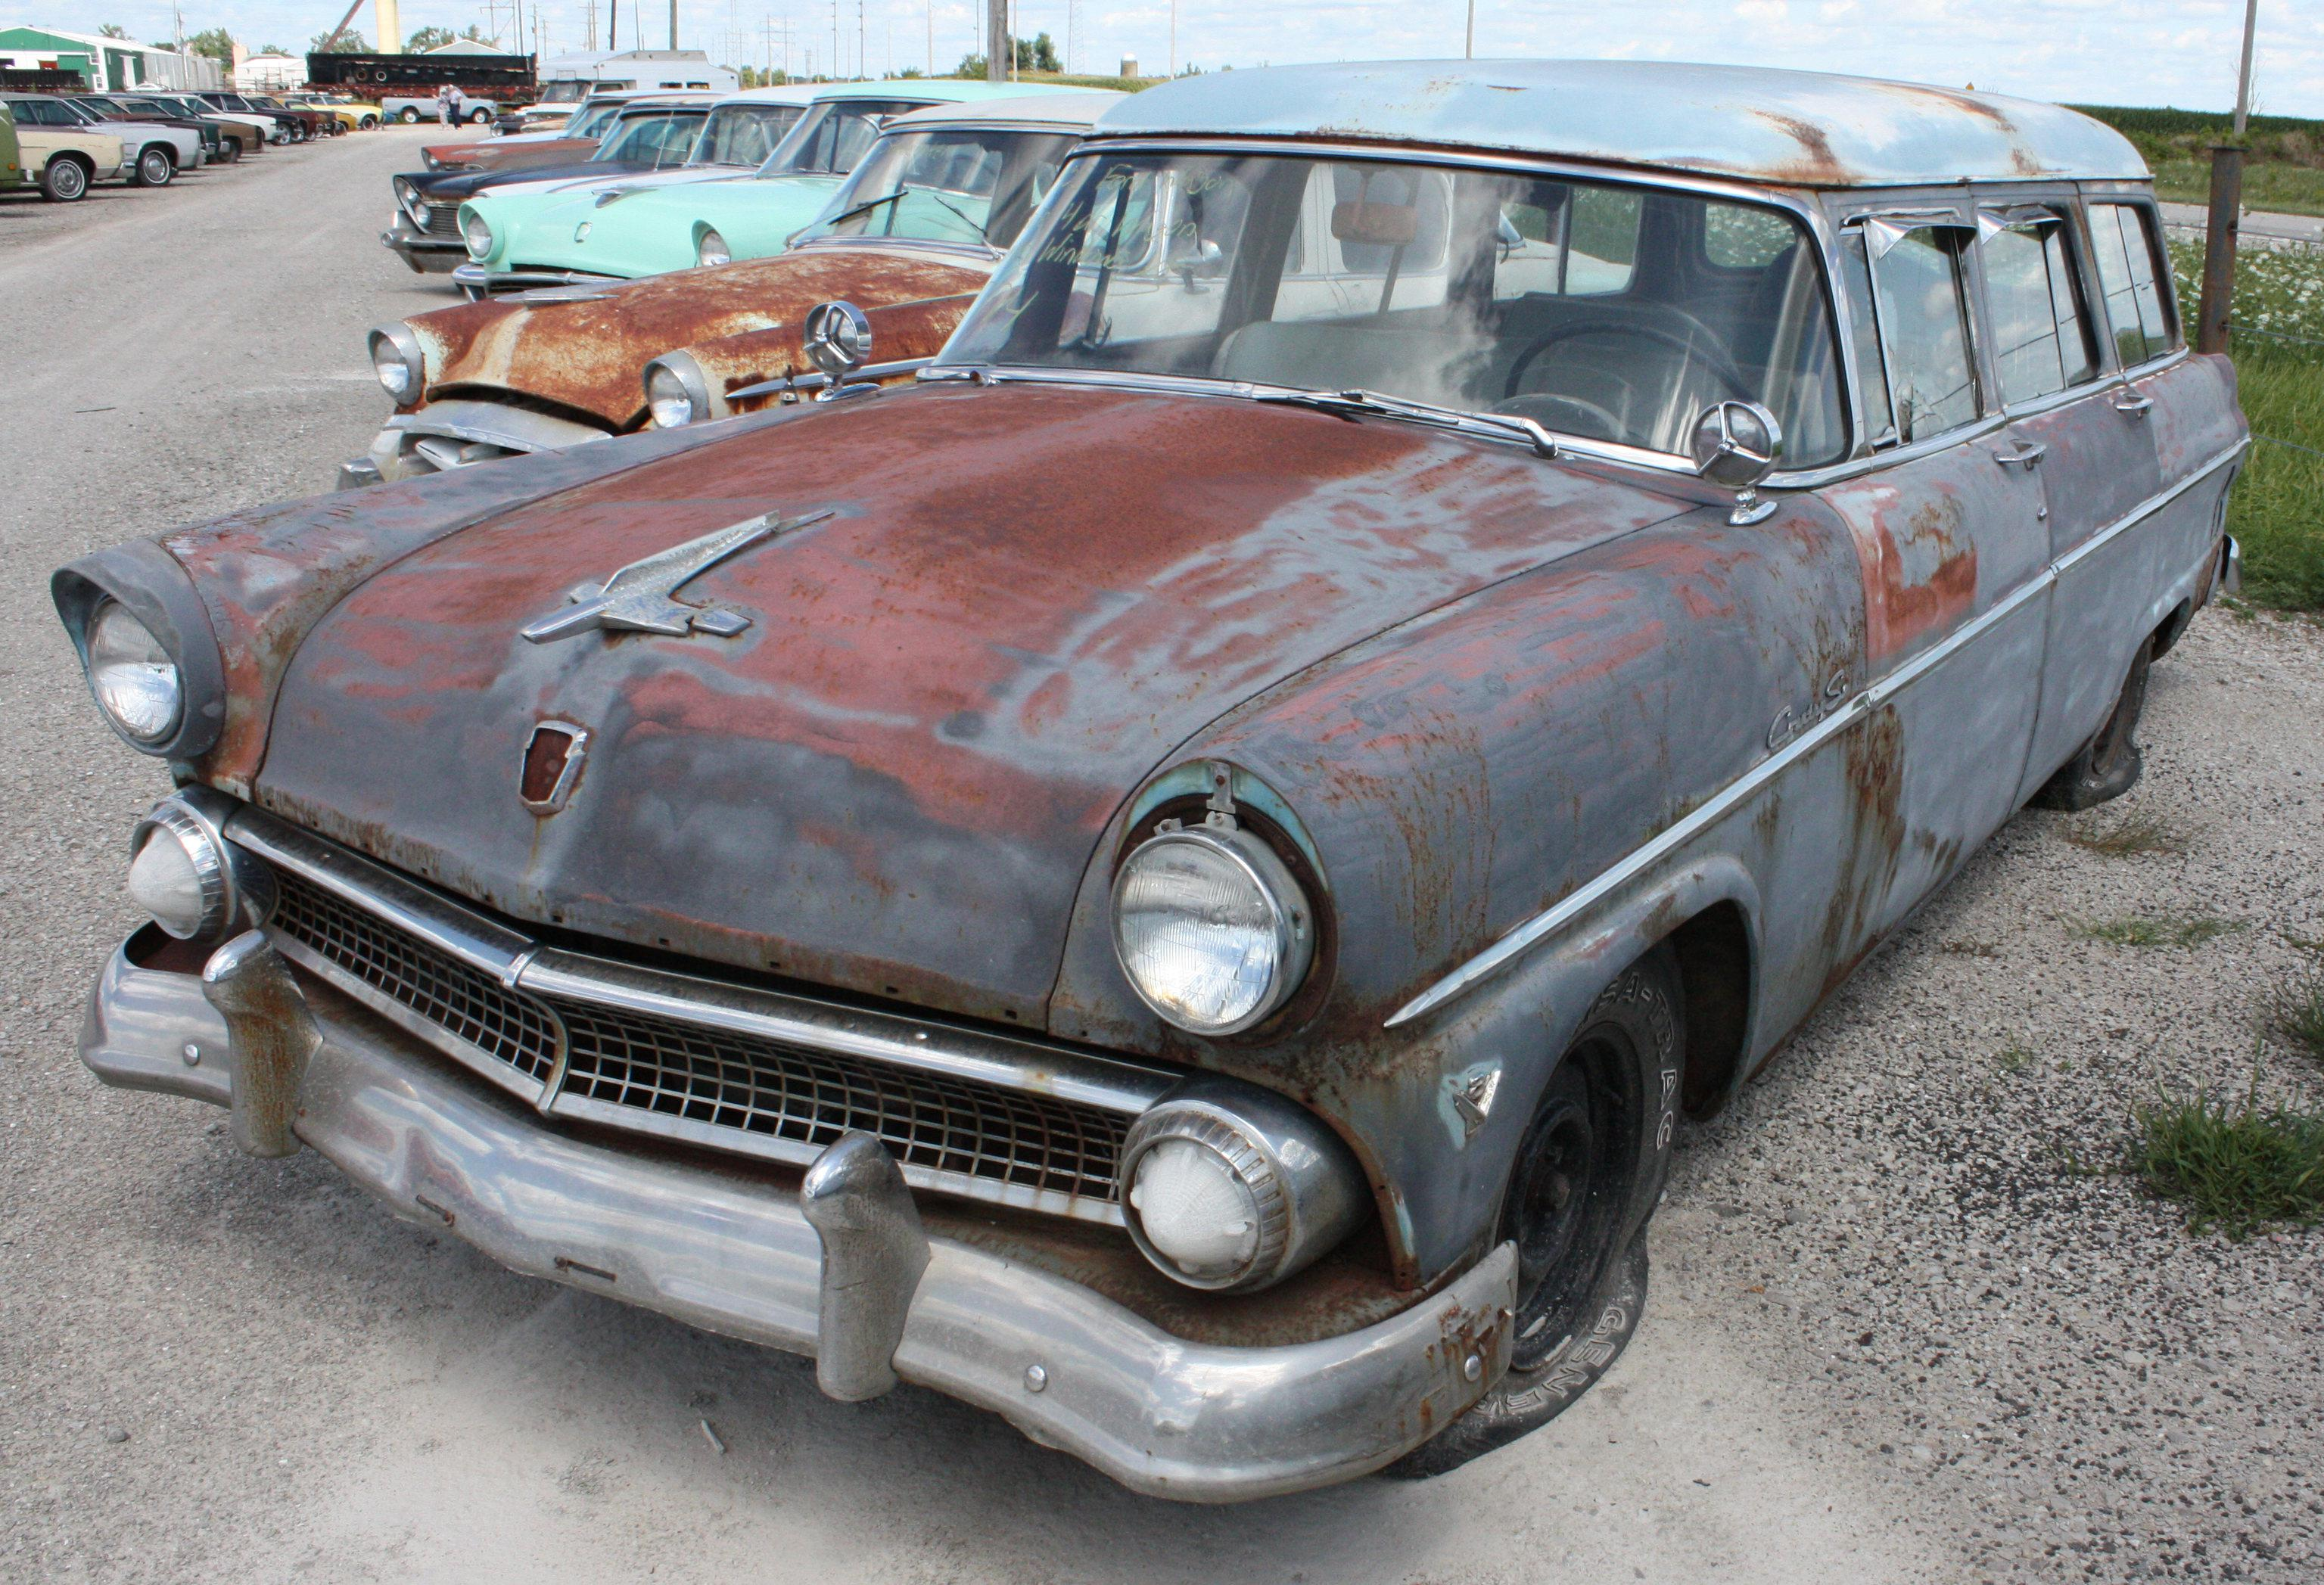bonnet-dent: (546, 367, 1416, 761)
doorouter-dent: (1879, 469, 2063, 821)
fender-dent: (1492, 549, 1854, 939)
front-bumper-dent: (138, 930, 992, 1370)
